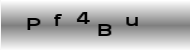4: (75, 11, 90, 24)
B: (96, 23, 111, 36)
P: (26, 18, 41, 31)
f: (52, 12, 63, 26)
u: (125, 15, 139, 26)
